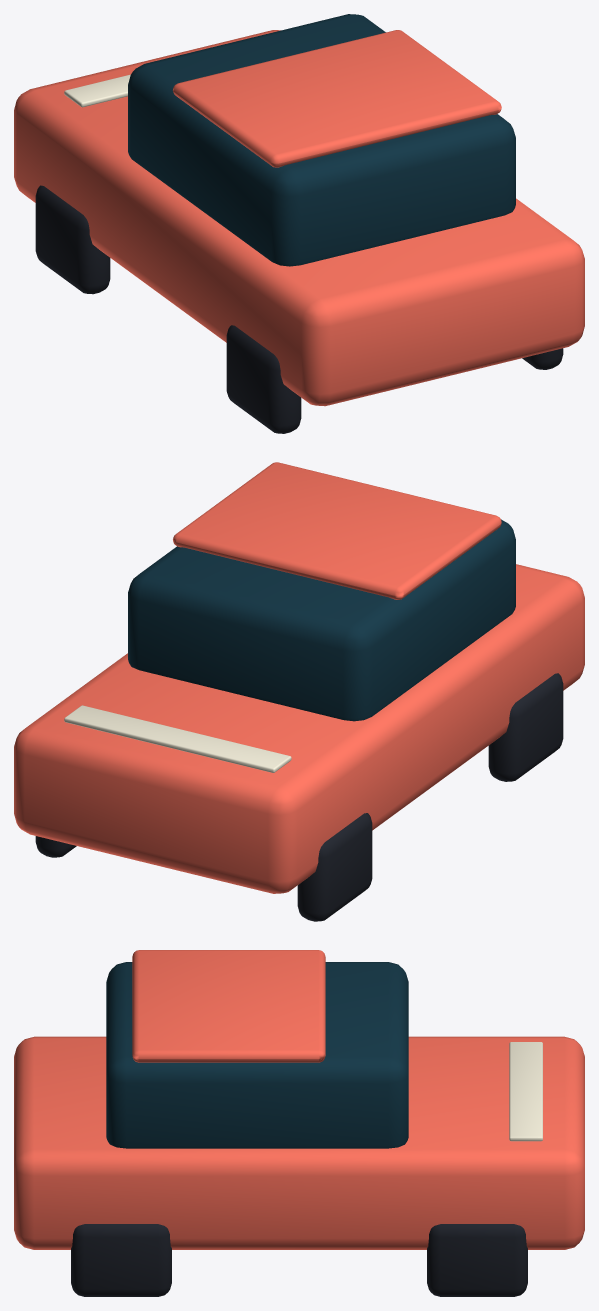
Rendered from s04_car.glb.
3 renders of one model, top to bottom at view 1: azimuth 30°, elevation 25°; view 2: azimuth 150°, elevation 25°; view 3: azimuth 270°, elevation 25°, orthographic. The views are drawn at different scales.
Visible parts, largest first — view 1: Body, Cabin, Roof, Wheel_-0.84_-1.06, Wheel_-0.84_1.06, FrontStripe, Wheel_0.84_1.06; view 2: Body, Cabin, Roof, Wheel_-0.84_1.06, Wheel_-0.84_-1.06, FrontStripe; view 3: Body, Cabin, Roof, Wheel_0.84_1.06, Wheel_0.84_-1.06, FrontStripe.
Part boxes in pixels (left/top/right/bottom): Body: left=14, top=30, right=584, bottom=406; Cabin: left=128, top=14, right=515, bottom=266; Roof: left=173, top=30, right=501, bottom=167; Wheel_-0.84_-1.06: left=35, top=185, right=110, bottom=294; Wheel_-0.84_1.06: left=226, top=325, right=301, bottom=433; FrontStripe: left=64, top=74, right=130, bottom=107; Wheel_0.84_1.06: left=522, top=348, right=563, bottom=369; Body: left=14, top=564, right=584, bottom=893; Cabin: left=128, top=519, right=515, bottom=721; Roof: left=173, top=462, right=501, bottom=599; Wheel_-0.84_1.06: left=488, top=673, right=563, bottom=781; Wheel_-0.84_-1.06: left=297, top=813, right=372, bottom=921; FrontStripe: left=64, top=705, right=291, bottom=772; Body: left=14, top=1036, right=584, bottom=1249; Cabin: left=106, top=962, right=408, bottom=1148; Roof: left=132, top=950, right=325, bottom=1062; Wheel_0.84_1.06: left=71, top=1224, right=171, bottom=1296; Wheel_0.84_-1.06: left=427, top=1224, right=527, bottom=1296; FrontStripe: left=509, top=1042, right=542, bottom=1141.
Bounding box in the file's own units: 1.88 × 1.54 × 3.4.
